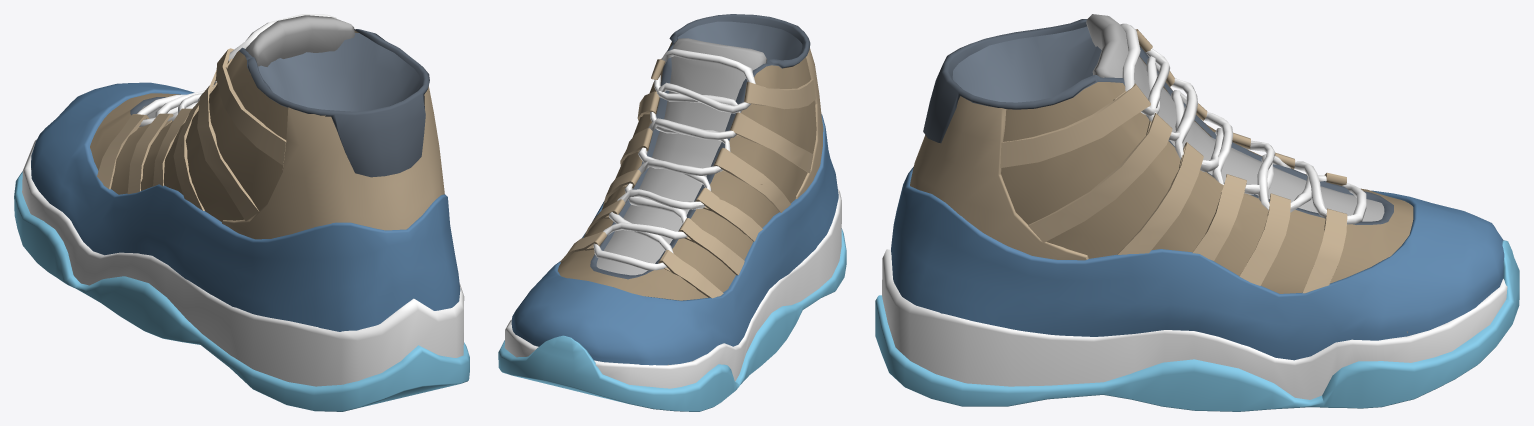
Rendered from Air_Jordan_11.fbx.
3 views of the same model, side by side, from view 1: azimuth 30°, elevation 25°; view 2: azimuth 150°, elevation 25°; view 3: azimuth 270°, elevation 25° (orthographic). The views are drawn at different scales.
Visible parts, largest first — view 1: Body, Bottom, Back_Side, Lower_Sole6, Lace_Tap, Cover, Toung, Lace; view 2: Body, Bottom, Toung, Lace_Tap, Lower_Sole6, Lace, Cover, Back_Side; view 3: Body, Bottom, Lower_Sole6, Lace_Tap, Back_Side, Cover, Lace, Toung.
Boxes of the visible parts, x1,y1,x2,y2 form: Body: [22, 29, 464, 386]; Bottom: [31, 82, 460, 331]; Back_Side: [222, 86, 444, 239]; Lower_Sole6: [14, 171, 469, 411]; Lace_Tap: [97, 48, 286, 221]; Cover: [258, 32, 420, 111]; Toung: [141, 15, 354, 118]; Lace: [136, 14, 336, 126]; Body: [504, 14, 841, 388]; Bottom: [511, 114, 838, 365]; Toung: [596, 38, 767, 275]; Lace_Tap: [560, 58, 815, 298]; Lower_Sole6: [498, 228, 846, 411]; Lace: [593, 49, 755, 270]; Cover: [677, 21, 802, 62]; Back_Side: [795, 48, 823, 198]; Body: [882, 19, 1507, 399]; Bottom: [891, 167, 1504, 360]; Lower_Sole6: [875, 240, 1519, 411]; Lace_Tap: [1000, 29, 1347, 293]; Back_Side: [910, 96, 1088, 260]; Cover: [952, 26, 1101, 102]; Lace: [1120, 23, 1366, 224]; Toung: [1086, 14, 1384, 221].
Bounding box in the file's own units: 1.01 × 1.26 × 2.26.
